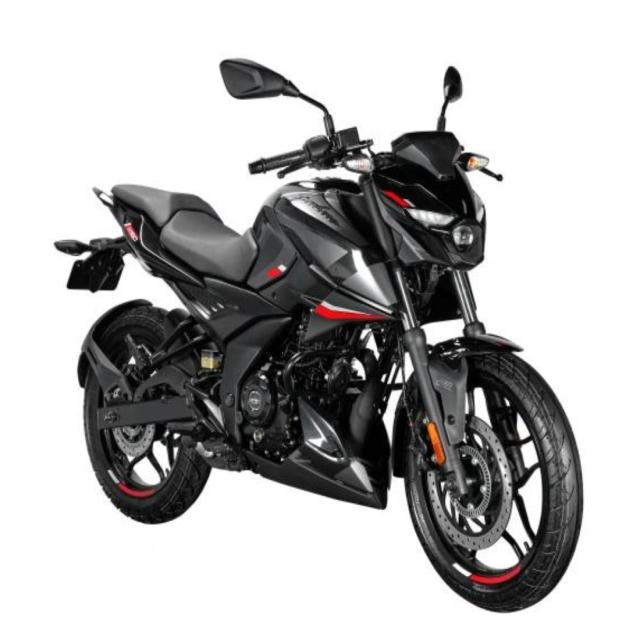MOTORCYCLE: (69, 88, 572, 598)
